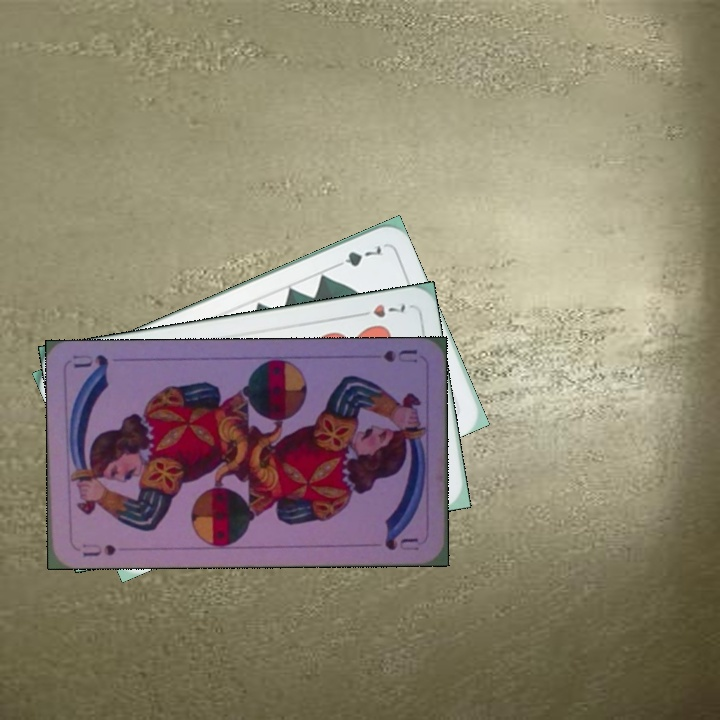G7: (329, 241, 386, 271)
H7: (352, 298, 408, 321)
SU: (379, 345, 420, 365), (78, 539, 118, 559)
